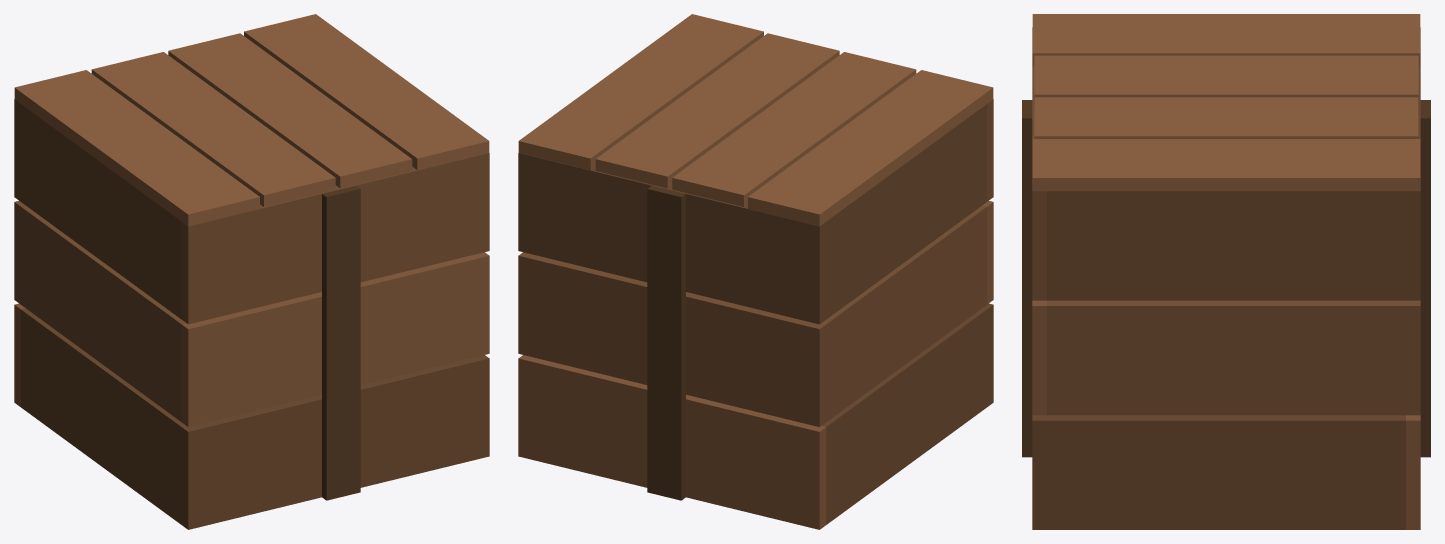
File: crate.glb
3 views of the same model, side by side, from view 1: azimuth 30°, elevation 25°; view 2: azimuth 150°, elevation 25°; view 3: azimuth 270°, elevation 25° (orthographic). The views are drawn at different scales.
Visible parts, largest first — view 1: crate; view 2: crate; view 3: crate.
Boxes of the visible parts, box(x1,y1,x2,y2) form: crate: box(14, 14, 489, 529); crate: box(518, 14, 993, 529); crate: box(1022, 14, 1430, 529).
Bounding box in the file's own units: 0.8 × 0.8 × 0.842.
Materials: 1 (1 with a texture image).
